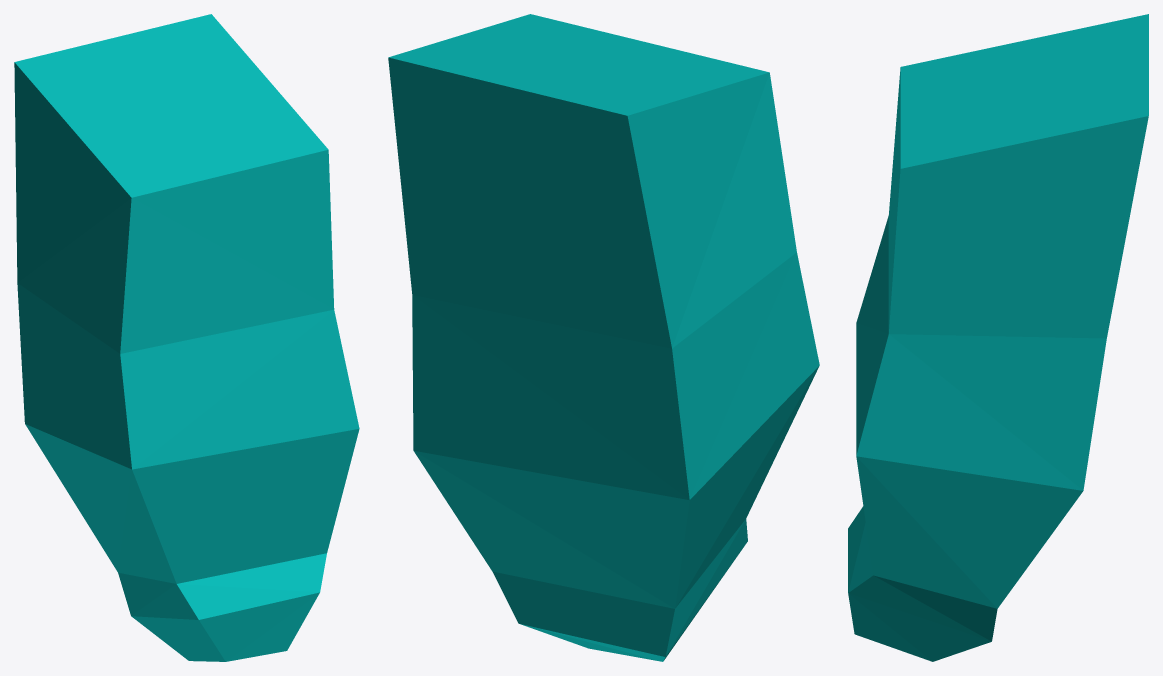
Rendered from right_upper_arm.dae.
The picture shows the model from 3 angles, left to right: view 1: azimuth 30°, elevation 25°; view 2: azimuth 150°, elevation 25°; view 3: azimuth 270°, elevation 25°; orthographic projection. The views are drawn at different scales.
Parts seen in each view (by area): view 1: right_upper_arm; view 2: right_upper_arm; view 3: right_upper_arm.
Part boxes in pixels (x1=…): right_upper_arm: x1=14, y1=14, x2=359, y2=661; right_upper_arm: x1=388, y1=14, x2=819, y2=661; right_upper_arm: x1=848, y1=14, x2=1148, y2=661.
Bounding box in the file's own units: 0.1479 × 0.1597 × 0.3392.
